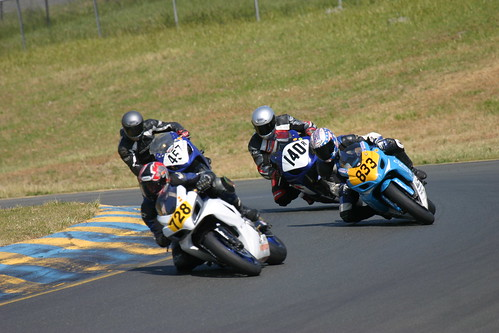helmet: (247, 105, 274, 139), (142, 161, 167, 195), (312, 129, 343, 156), (120, 111, 149, 135)
